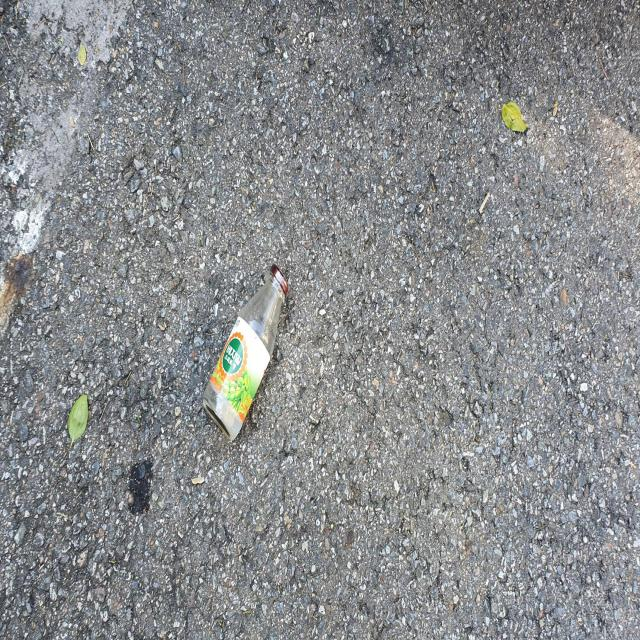glass: (203, 264, 288, 440)
